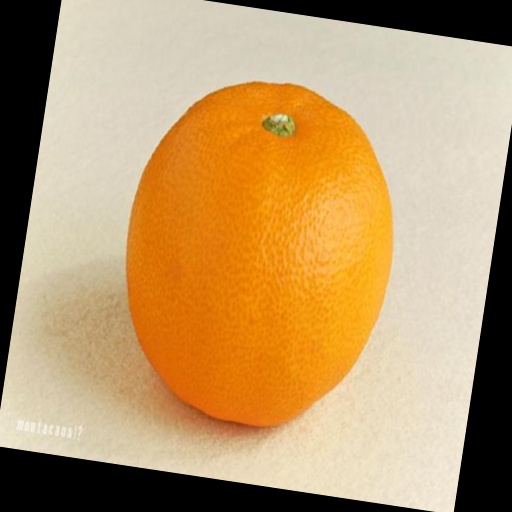fruit: (126, 82, 392, 426)
